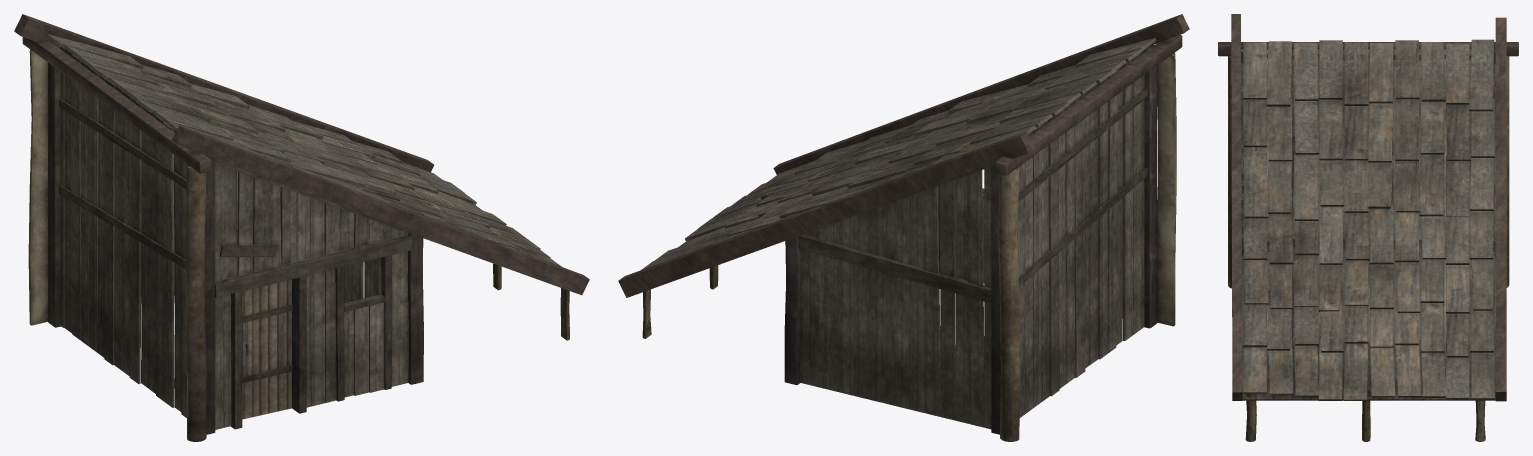
The model's file is house_2.glb.
The picture shows the model from 3 angles, left to right: view 1: azimuth 30°, elevation 25°; view 2: azimuth 150°, elevation 25°; view 3: azimuth 270°, elevation 25°; orthographic projection. The views are drawn at different scales.
Parts seen in each view (by area): view 1: house_2, house_2_door; view 2: house_2; view 3: house_2.
Boxes of the visible parts, bbox=[...] form: house_2: bbox=[14, 14, 589, 441]; house_2_door: bbox=[242, 279, 292, 419]; house_2: bbox=[618, 14, 1189, 441]; house_2: bbox=[1218, 14, 1518, 441].
Bounding box in the file's own units: 6.91 × 4.99 × 5.12.
Materials: 1 (1 with a texture image).
